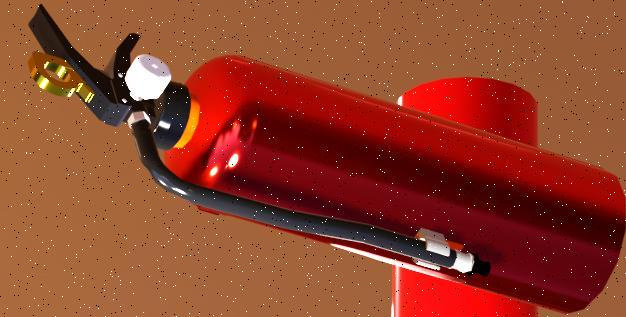Fire Extinguisher: (12, 11, 626, 307)
